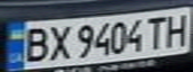0: (109, 18, 130, 55)
4: (124, 16, 148, 53), (93, 19, 115, 56)
9: (72, 20, 96, 60)
B: (18, 24, 54, 63)
H: (163, 10, 193, 47)
T: (142, 14, 169, 50)
X: (45, 23, 72, 62)
